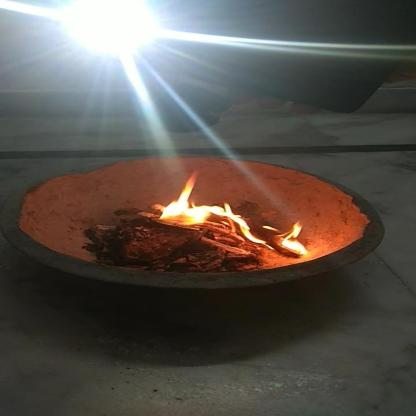fire: (149, 172, 314, 256)
